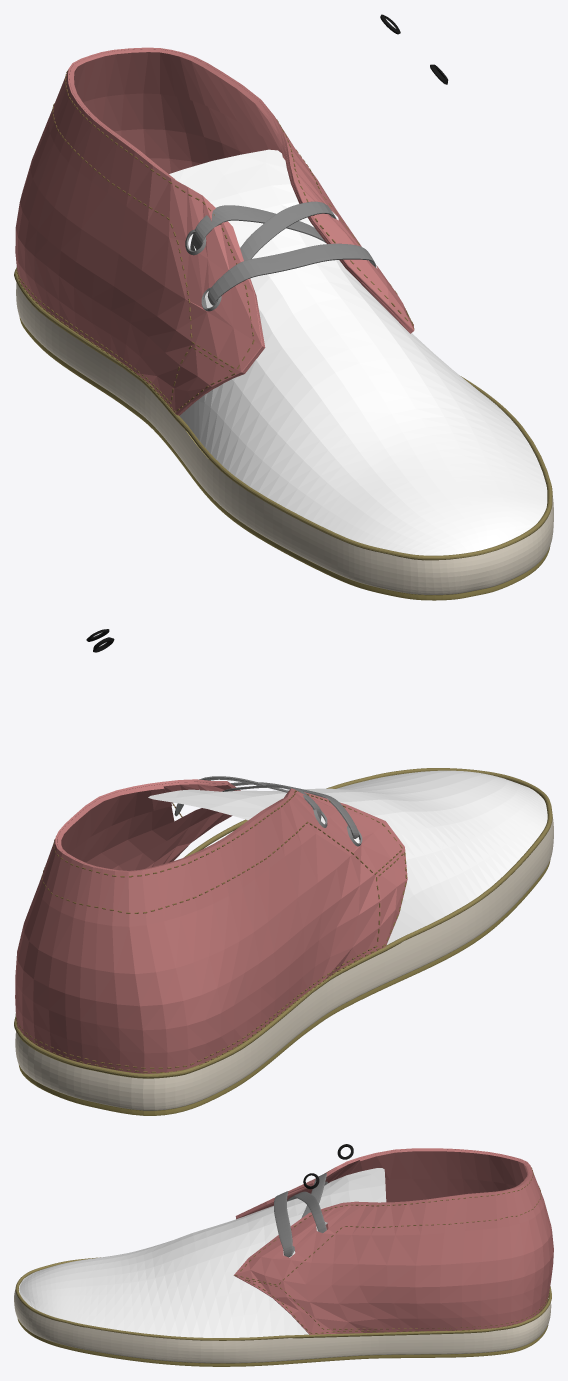
The model's file is shoes_red.glb.
The picture shows the model from 3 angles, top to bottom: view 1: azimuth 30°, elevation 25°; view 2: azimuth 150°, elevation 25°; view 3: azimuth 270°, elevation 25°; orthographic projection. The views are drawn at different scales.
Parts seen in each view (by area): view 1: Object004, Object001, Line001, Shape006, Rectangle0, Object005, Shape012, Object008, Object007; view 2: Object001, Object004, Line001, Shape006, Object005, Shape012; view 3: Object001, Object004, Line001, Shape006, Object005, Shape012, Rectangle0, Object008, Object007.
Boxes of the visible parts, x1,y1,x2,y2 form: Object004: [169, 149, 547, 555]; Object001: [15, 47, 414, 415]; Line001: [16, 283, 553, 594]; Shape006: [14, 267, 552, 560]; Rectangle0: [207, 243, 376, 305]; Object005: [19, 317, 550, 600]; Shape012: [16, 70, 414, 412]; Object008: [213, 201, 336, 305]; Object007: [190, 205, 325, 250]; Object001: [15, 779, 407, 1073]; Object004: [148, 770, 547, 944]; Line001: [15, 817, 553, 1110]; Shape006: [14, 768, 552, 1078]; Object005: [19, 860, 550, 1115]; Shape012: [15, 790, 406, 1072]; Object001: [233, 1148, 553, 1334]; Object004: [19, 1168, 386, 1337]; Line001: [14, 1289, 551, 1363]; Shape006: [15, 1257, 551, 1340]; Object005: [17, 1318, 548, 1366]; Shape012: [235, 1167, 549, 1333]; Rectangle0: [274, 1191, 292, 1256]; Object008: [287, 1191, 326, 1232]; Object007: [288, 1173, 327, 1257].
Size of the model in its own units: 4.22 by 4.55 by 10.04.
